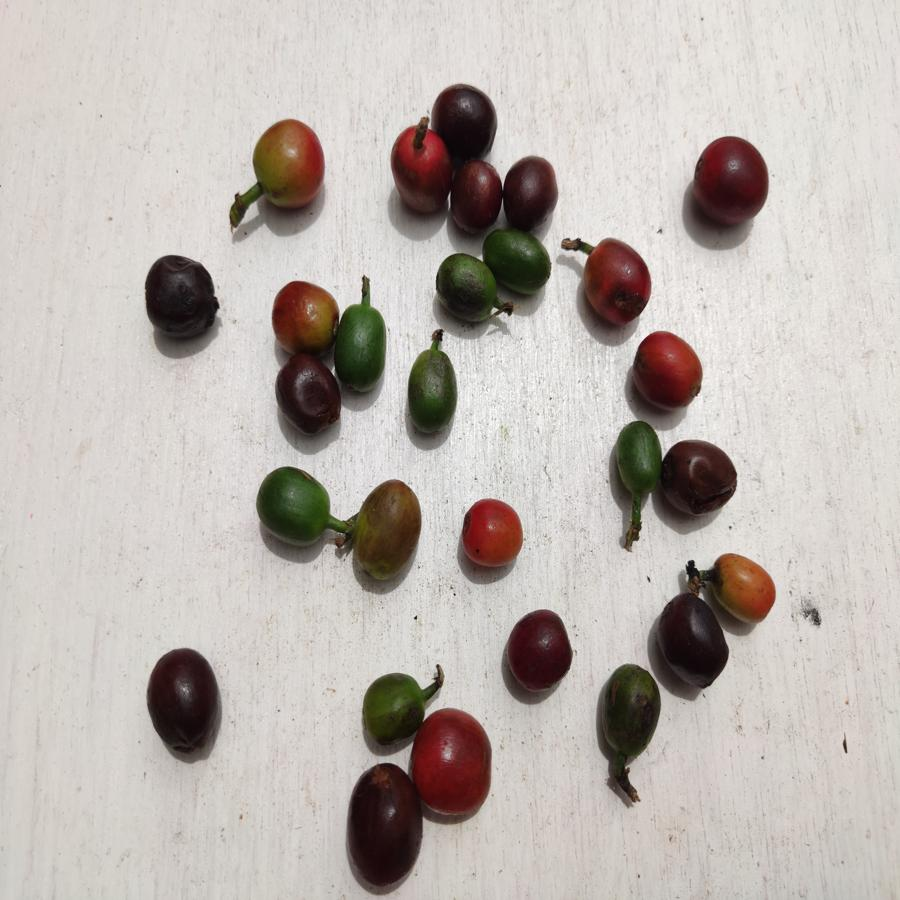Inmaduro: (253, 464, 340, 549), (598, 661, 661, 765), (430, 251, 499, 329), (335, 302, 394, 392), (485, 228, 558, 299), (400, 345, 458, 432), (362, 669, 426, 746), (610, 417, 662, 497)
Maduro: (414, 710, 495, 818), (629, 330, 712, 415), (578, 237, 652, 324), (390, 124, 448, 222)
Pinton: (249, 114, 327, 220), (358, 481, 423, 587), (455, 497, 538, 578), (273, 274, 340, 352), (708, 552, 776, 620)
Sobremaduro: (345, 763, 421, 887), (144, 645, 219, 757), (693, 135, 773, 228), (656, 592, 729, 686), (144, 253, 219, 341), (662, 435, 739, 517), (505, 608, 573, 700), (274, 352, 343, 434), (431, 80, 500, 159), (504, 156, 559, 226), (452, 159, 504, 229)
